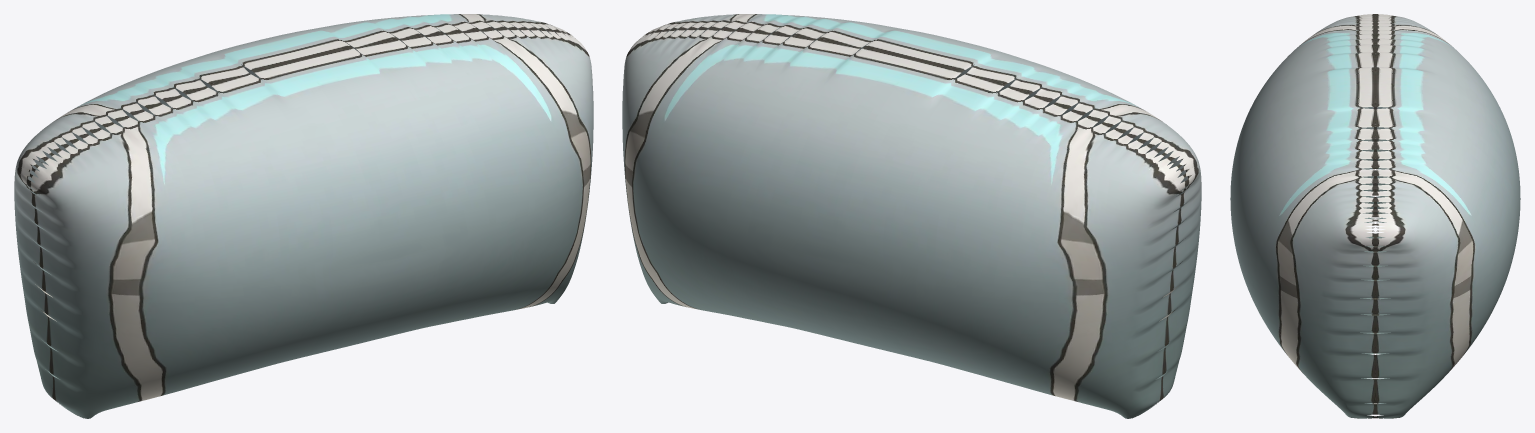
File: rear_bulkhead.glb
3 views of the same model, side by side, from view 1: azimuth 30°, elevation 25°; view 2: azimuth 150°, elevation 25°; view 3: azimuth 270°, elevation 25° (orthographic). The views are drawn at different scales.
Parts seen in each view (by area): view 1: rear_bulkhead; view 2: rear_bulkhead; view 3: rear_bulkhead.
Part boxes in pixels (x1=…): rear_bulkhead: x1=14, y1=14, x2=593, y2=418; rear_bulkhead: x1=622, y1=14, x2=1201, y2=418; rear_bulkhead: x1=1230, y1=14, x2=1520, y2=418.
Size of the model in its own units: 0.9888 by 0.4989 by 0.5543.
Materials: 1 (1 with a texture image).
